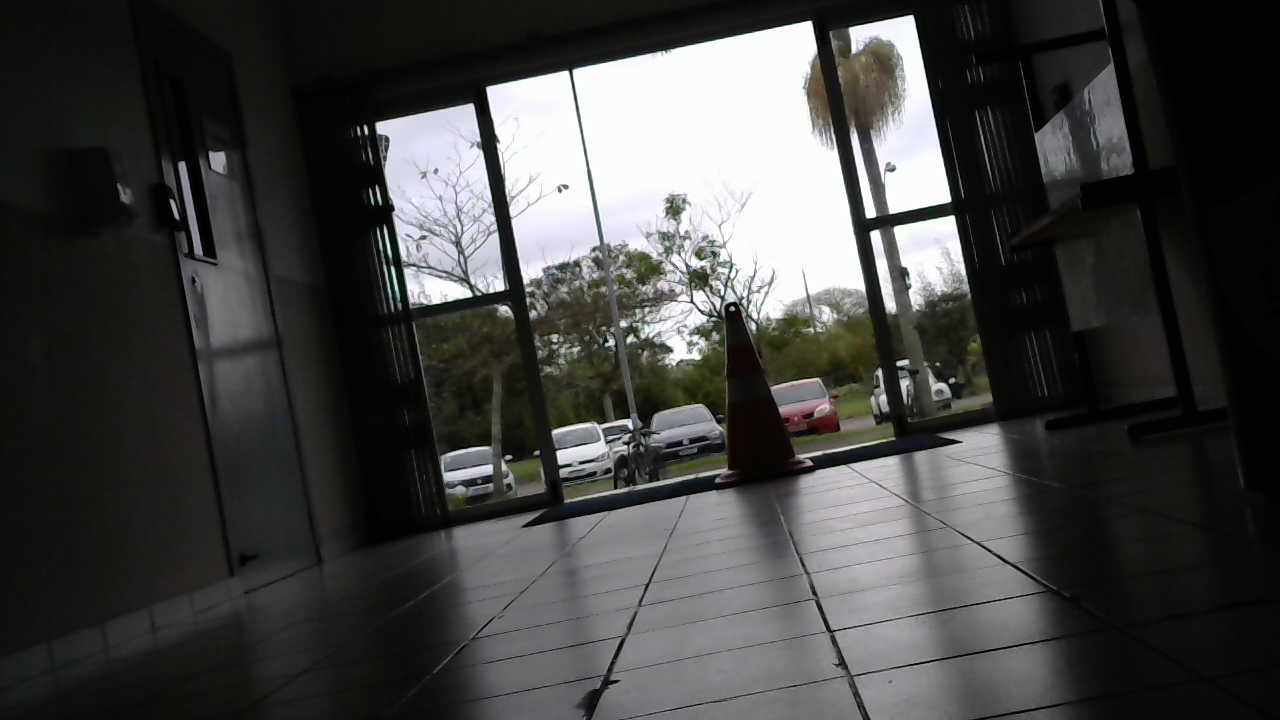cone: (711, 300, 815, 480)
